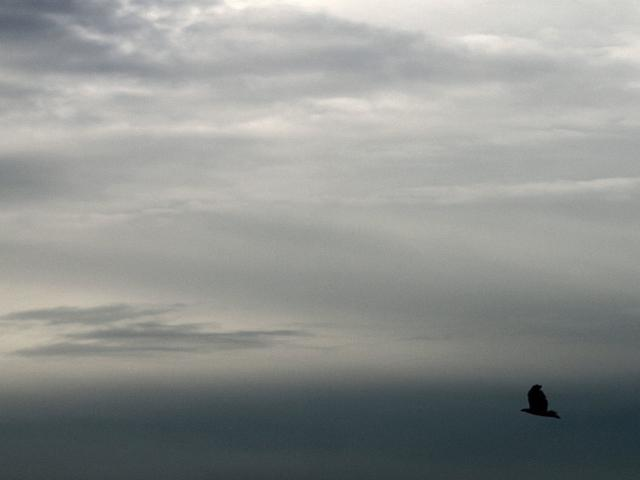Bird: (522, 384, 562, 420)
